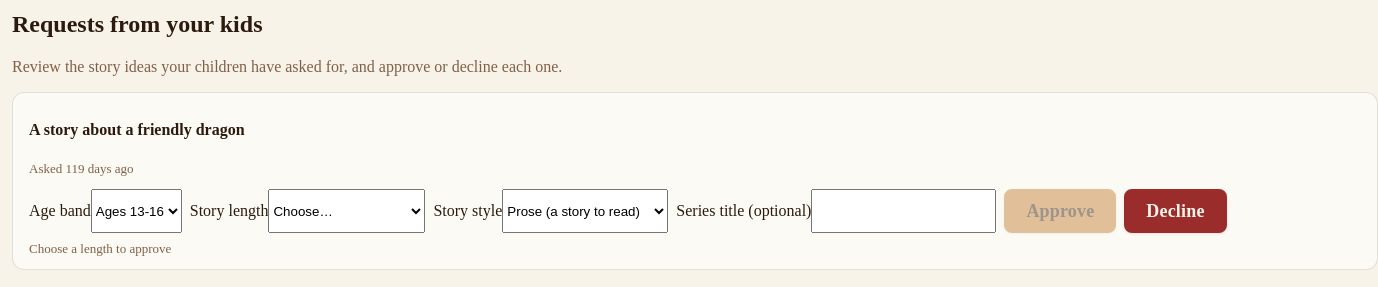
Test: RequestsPage › resets the story style back to prose after leaving and returning to a teen band
Check: the text "A story about a friendly dragon" is shown, box x1=29 y1=121 x2=245 y2=138
Select "Gamebook (pick-a-path)" in the dropdown labelled "Story style". click: [585, 211]
box: x1=502 y1=189 x2=668 y2=233
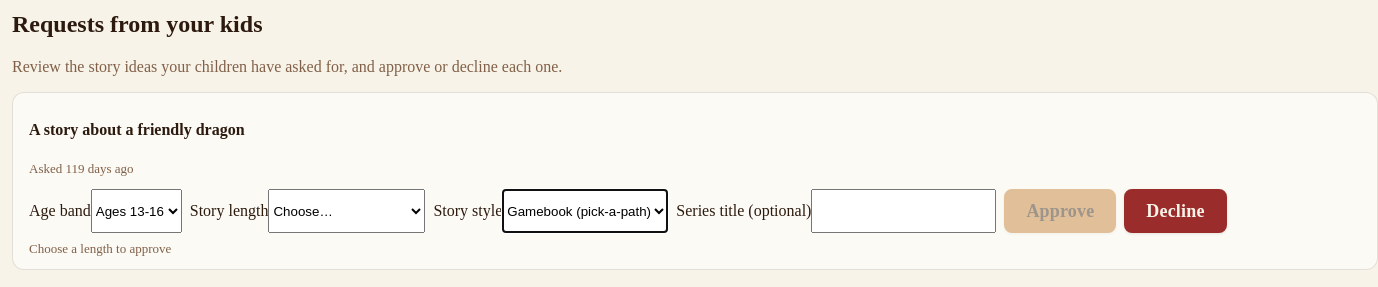
Select "Ages 8-11" in the dropdown labelled "Age band". click: [136, 211]
box: x1=91 y1=189 x2=182 y2=233
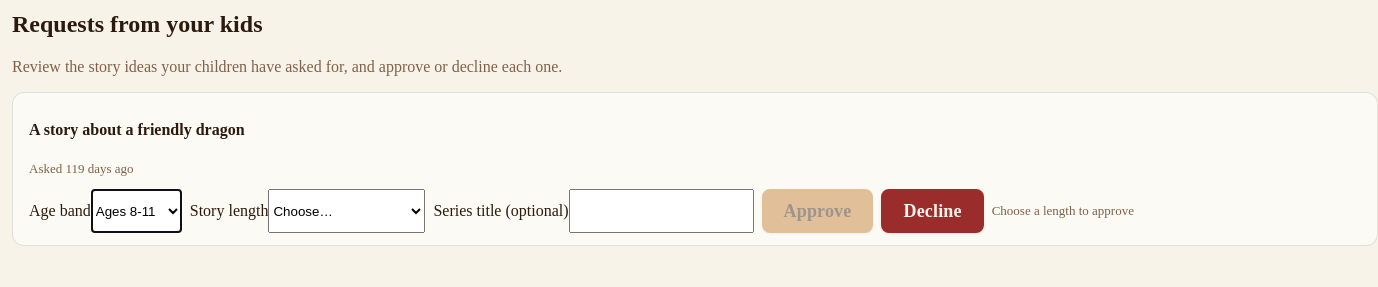
Check: the label labelled "Story style" is gone
Select "Ages 13-16" in the dropdown labelled "Age band". click: [136, 211]
box: x1=91 y1=189 x2=182 y2=233
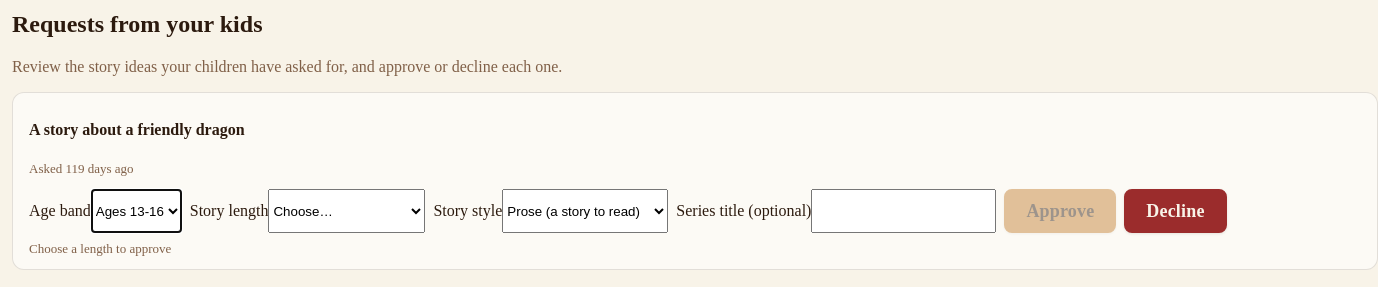
Check: the dropdown labelled "Story style" shows "Prose (a story to read)", box x1=502 y1=189 x2=668 y2=233
